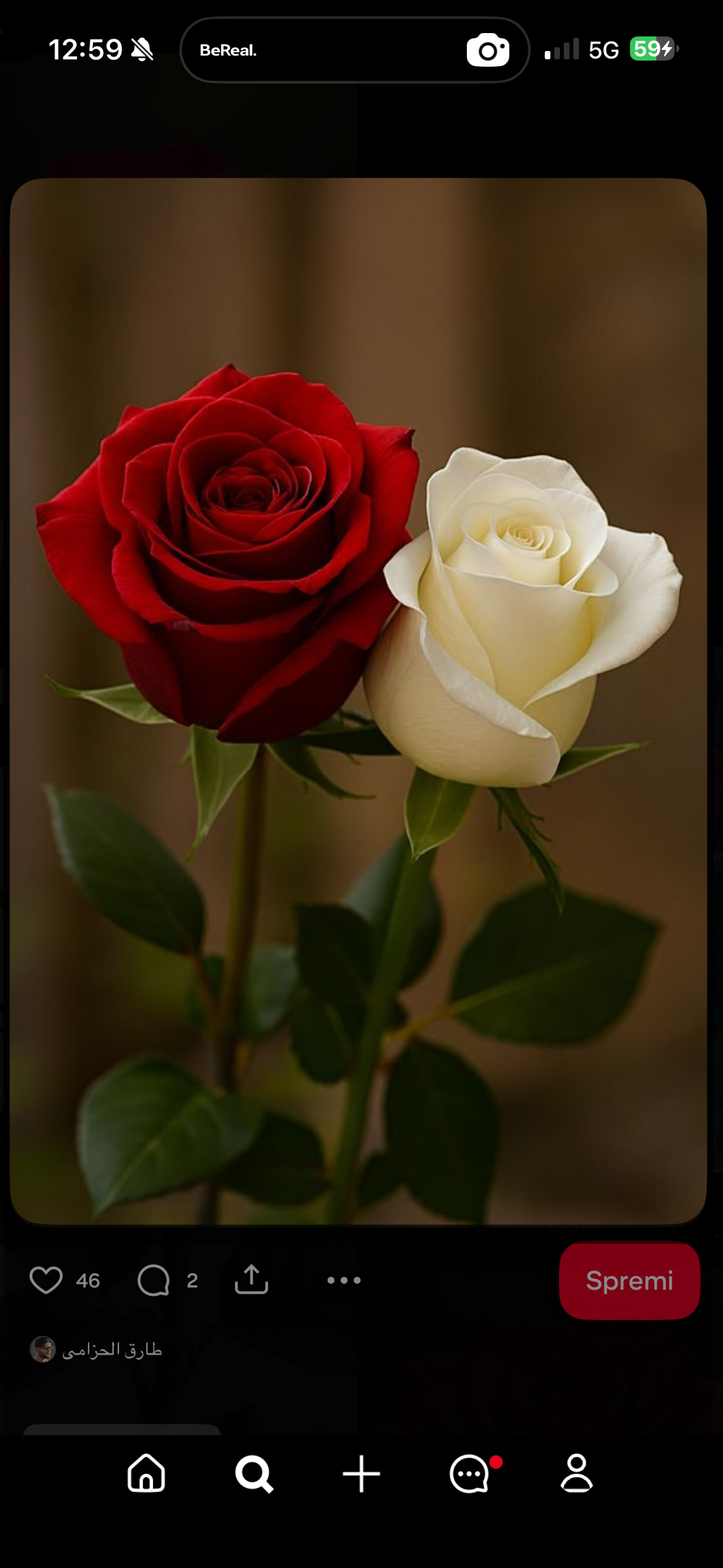rose: (32, 359, 422, 746), (363, 444, 685, 792)
